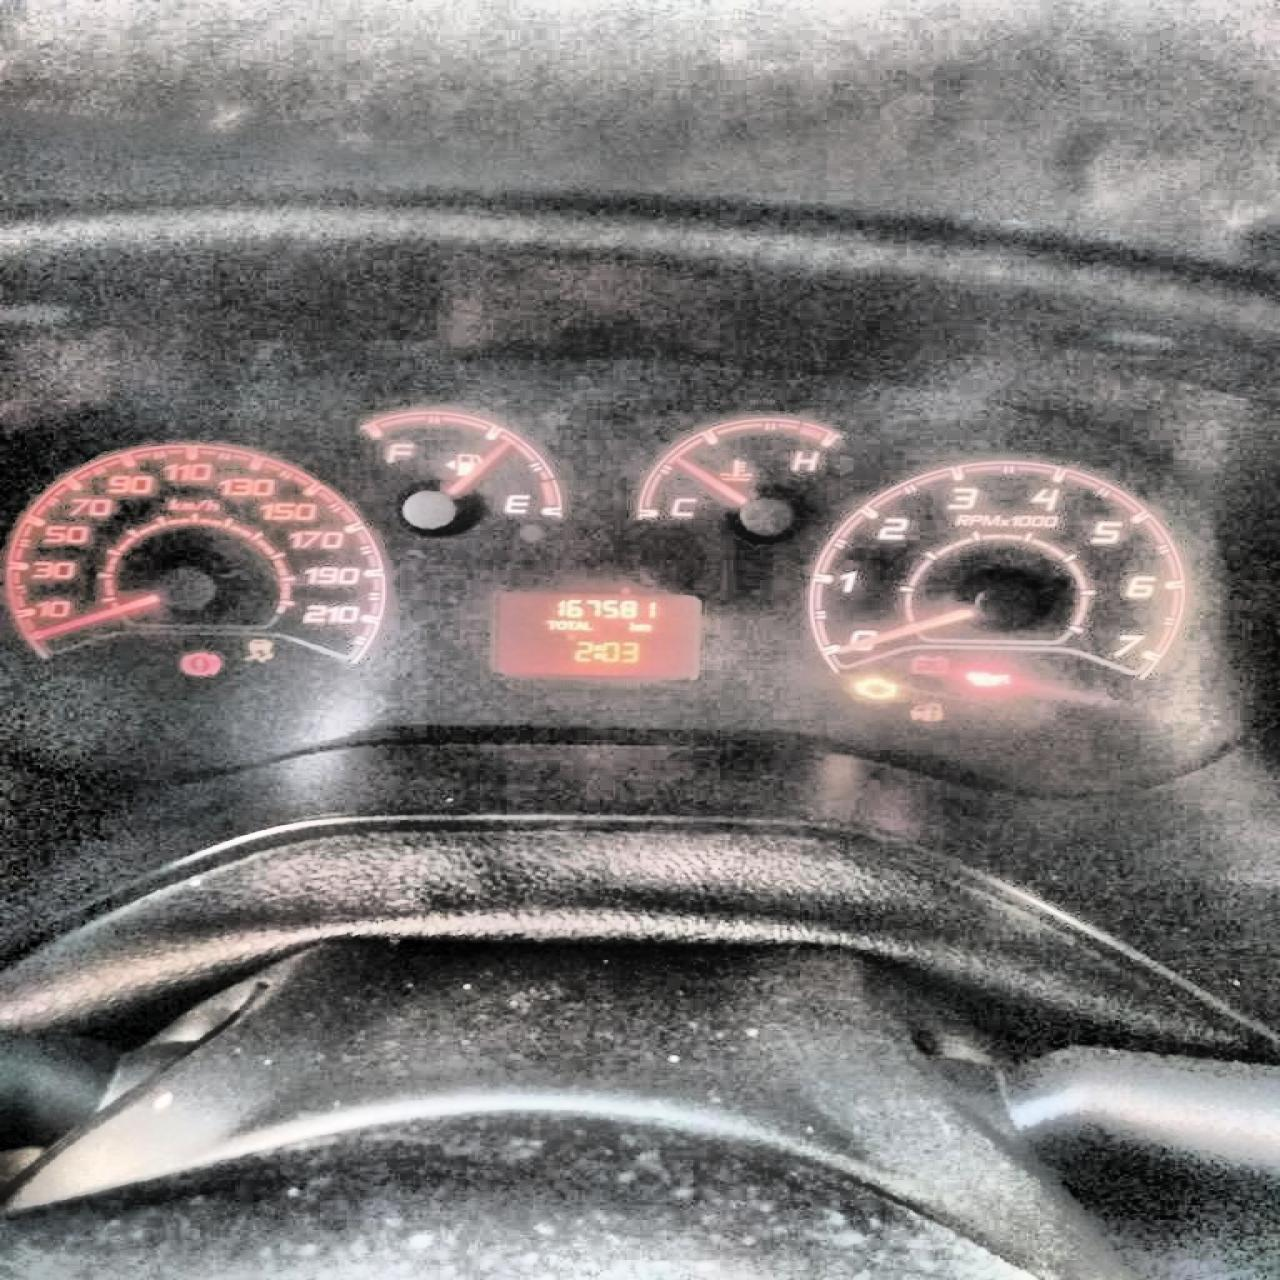0: (600, 640, 618, 662)
1: (644, 599, 656, 618), (553, 598, 565, 618)
2: (572, 639, 591, 662)
3: (619, 640, 639, 662)
5: (601, 598, 618, 619)
6: (565, 597, 581, 619)
7: (584, 598, 601, 618)
8: (618, 599, 636, 619)
X: (591, 642, 601, 660), (543, 618, 557, 631), (635, 622, 652, 632), (554, 619, 565, 629), (627, 619, 635, 632), (581, 620, 591, 629), (565, 619, 573, 629), (573, 620, 581, 629)
odometer: (486, 584, 710, 685)
